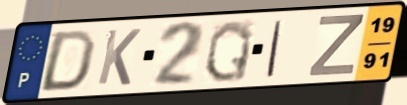2: (151, 20, 207, 90)
D: (35, 27, 99, 93)
I: (263, 18, 285, 79)
K: (95, 27, 144, 87)
Q: (201, 18, 255, 85)
Z: (306, 13, 367, 79)
